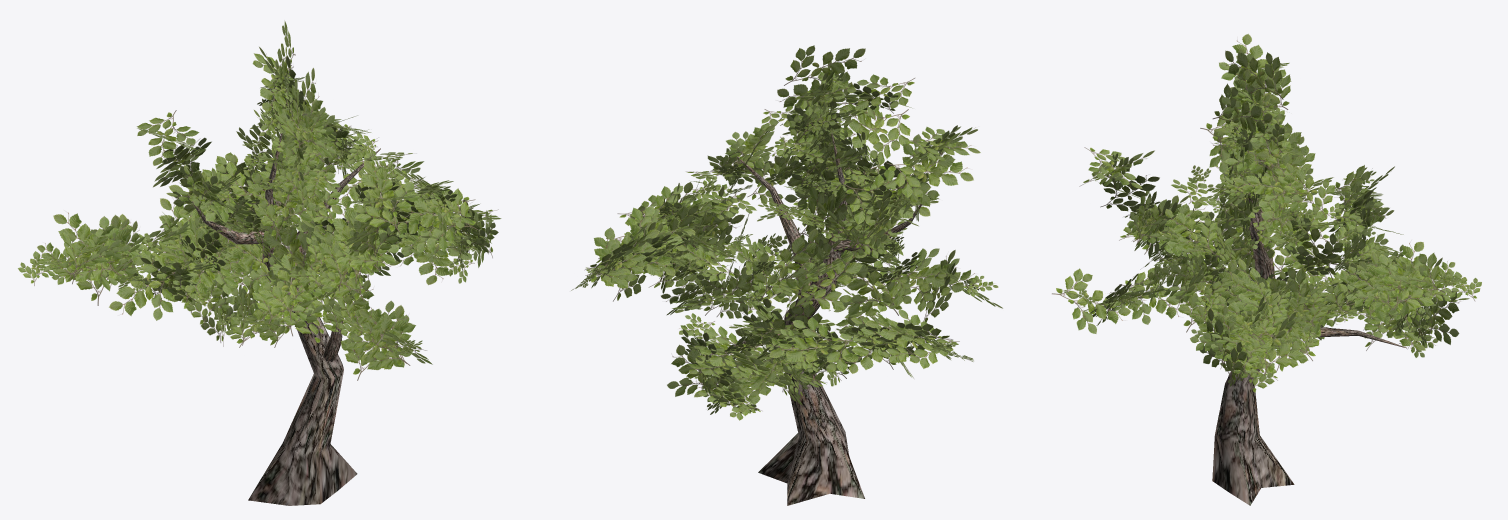
3 views of the same model, side by side, from view 1: azimuth 30°, elevation 25°; view 2: azimuth 150°, elevation 25°; view 3: azimuth 270°, elevation 25° (orthographic). The views are drawn at different scales.
Parts seen in each view (by area): view 1: Circle; view 2: Circle; view 3: Circle.
Part boxes in pixels (x1,y1,x2,y2): Circle: [18, 20, 501, 505]; Circle: [571, 45, 1002, 505]; Circle: [1052, 33, 1481, 505].
Size of the model in its own units: 1.75 by 1.84 by 1.65.
2 materials, 2 textured.
